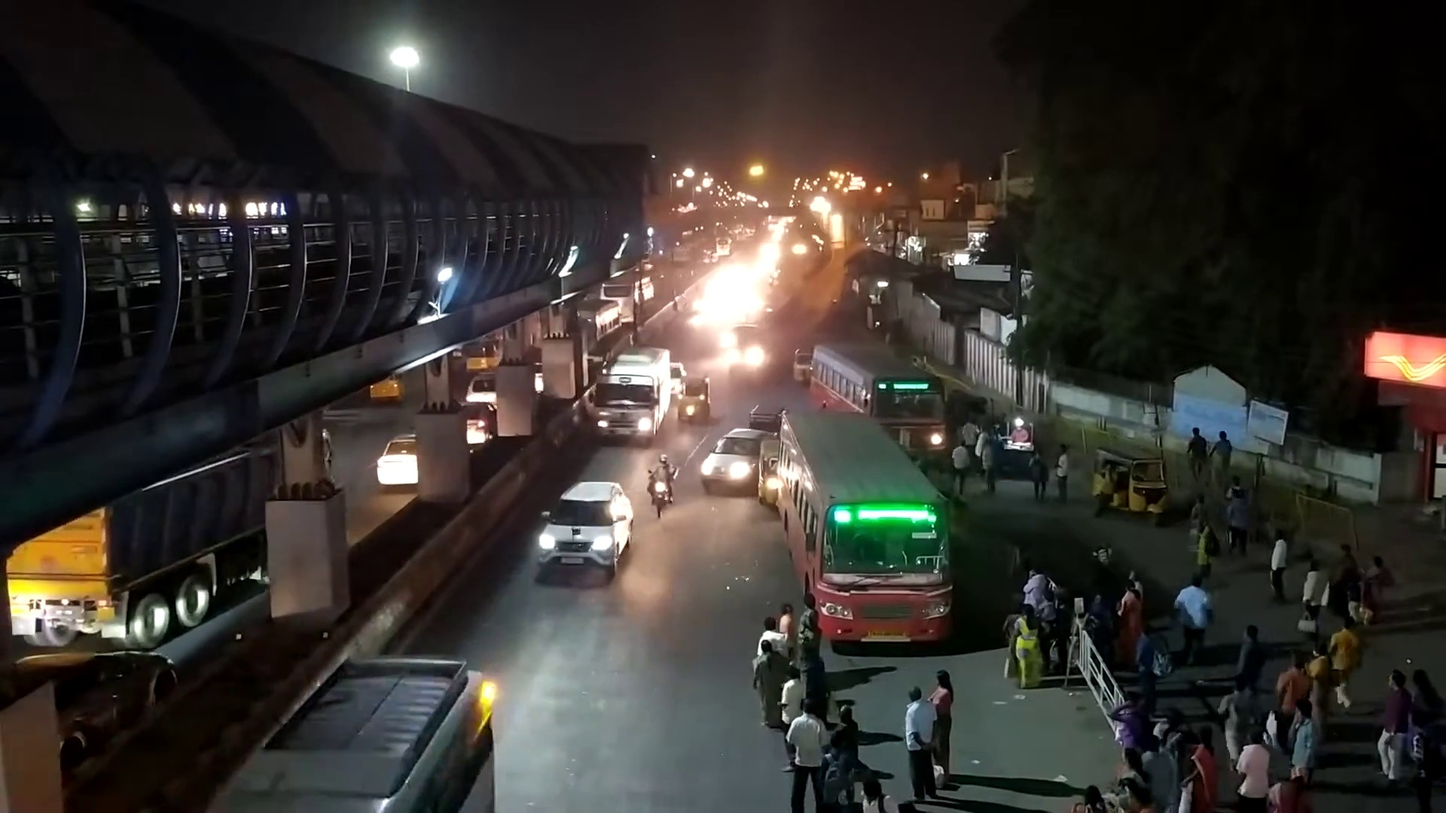driver_helmet: (648, 454, 675, 487)
motorcycle: (646, 453, 677, 519)
